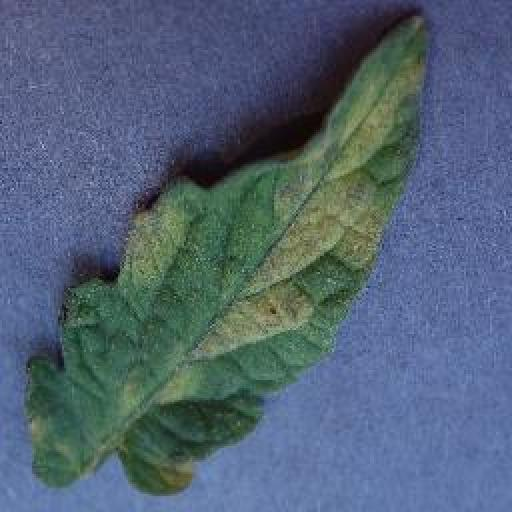disease_tomato: (27, 10, 430, 490)
